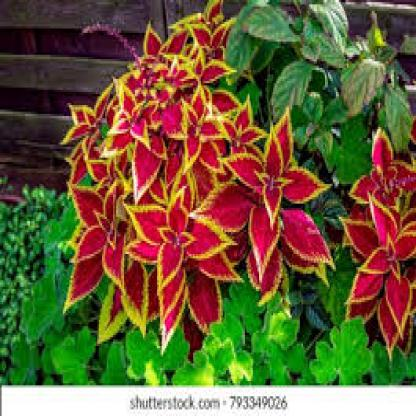Bunga Coleus: (67, 58, 291, 301), (349, 165, 414, 334)
